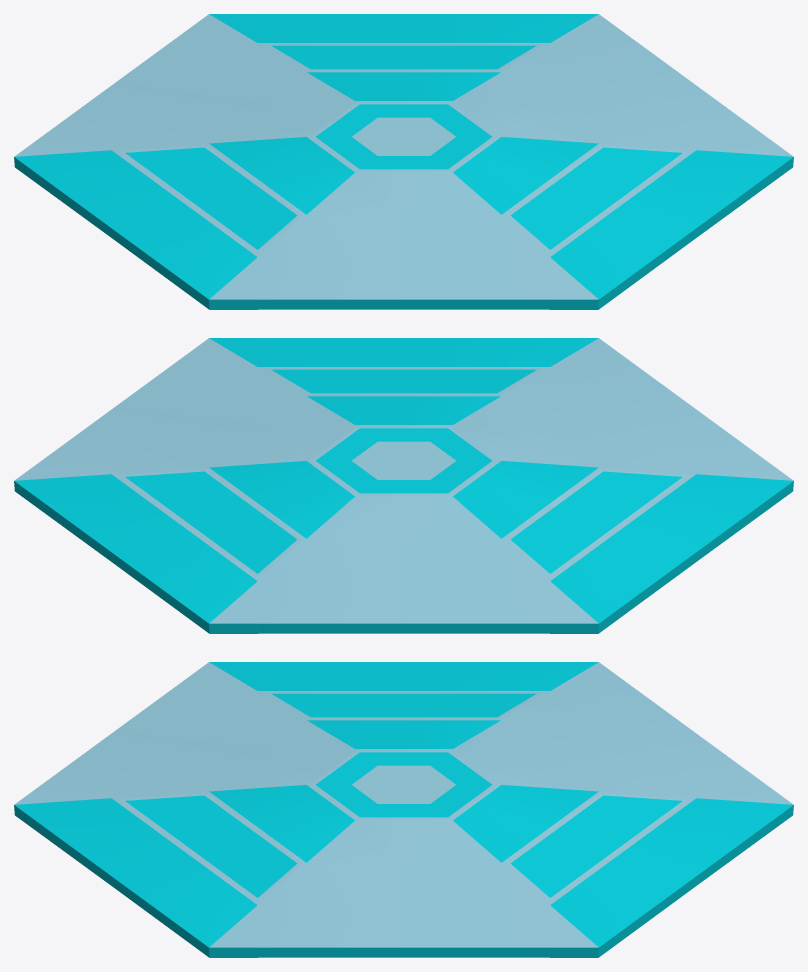
The model's file is shield.fbx.
3 renders of one model, top to bottom at view 1: azimuth 30°, elevation 25°; view 2: azimuth 150°, elevation 25°; view 3: azimuth 270°, elevation 25°, orthographic.
Parts seen in each view (by area): view 1: pDisc4; view 2: pDisc4; view 3: pDisc4.
Boxes of the visible parts, box(x1,y1,x2,y2) form: pDisc4: box(14, 14, 793, 309); pDisc4: box(14, 338, 793, 633); pDisc4: box(14, 662, 793, 957).
Size of the model in its own units: 1.73 by 0.0866 by 2.
